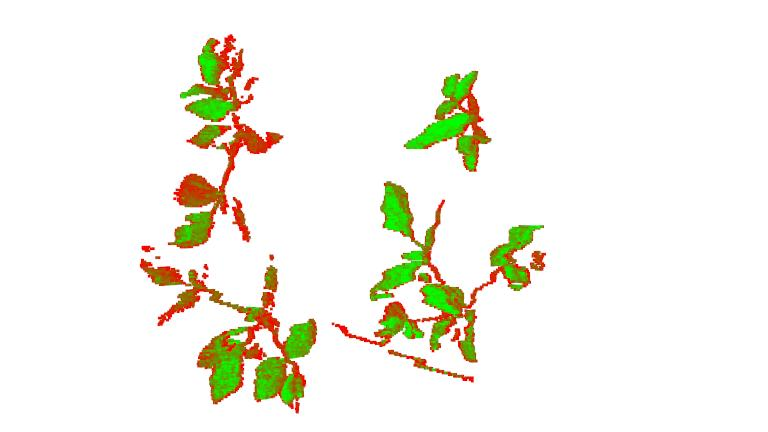mungbean: (370, 180, 544, 361), (140, 253, 319, 412), (164, 25, 282, 247), (400, 62, 521, 172)
